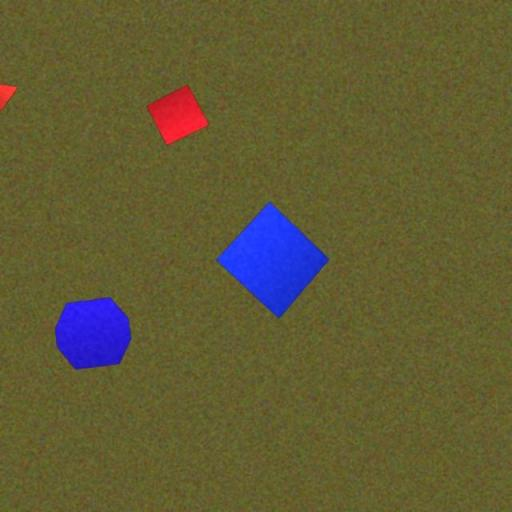BLUE_SQUARE: (216, 201, 330, 320)
RED_SQUARE: (146, 84, 210, 146)
